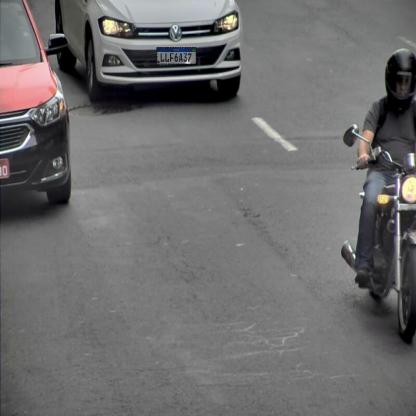PlacaM: (156, 47, 196, 65)
